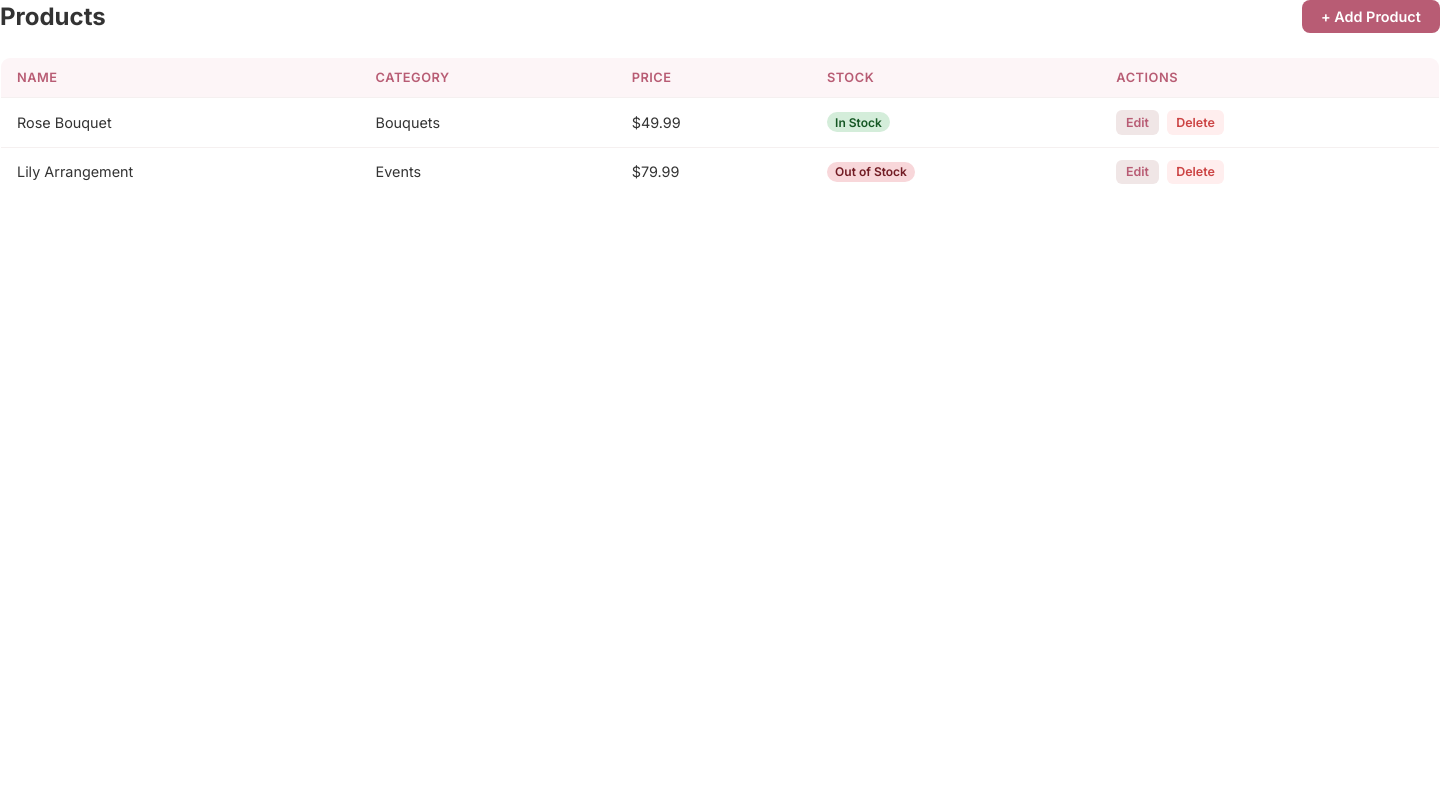
Test case: AdminProductsPage › opens add product modal
This screenshot has width=1440, height=810.
Click the button "+ Add Product".
click(1371, 16)  # box x1=1302 y1=0 x2=1439 y2=33
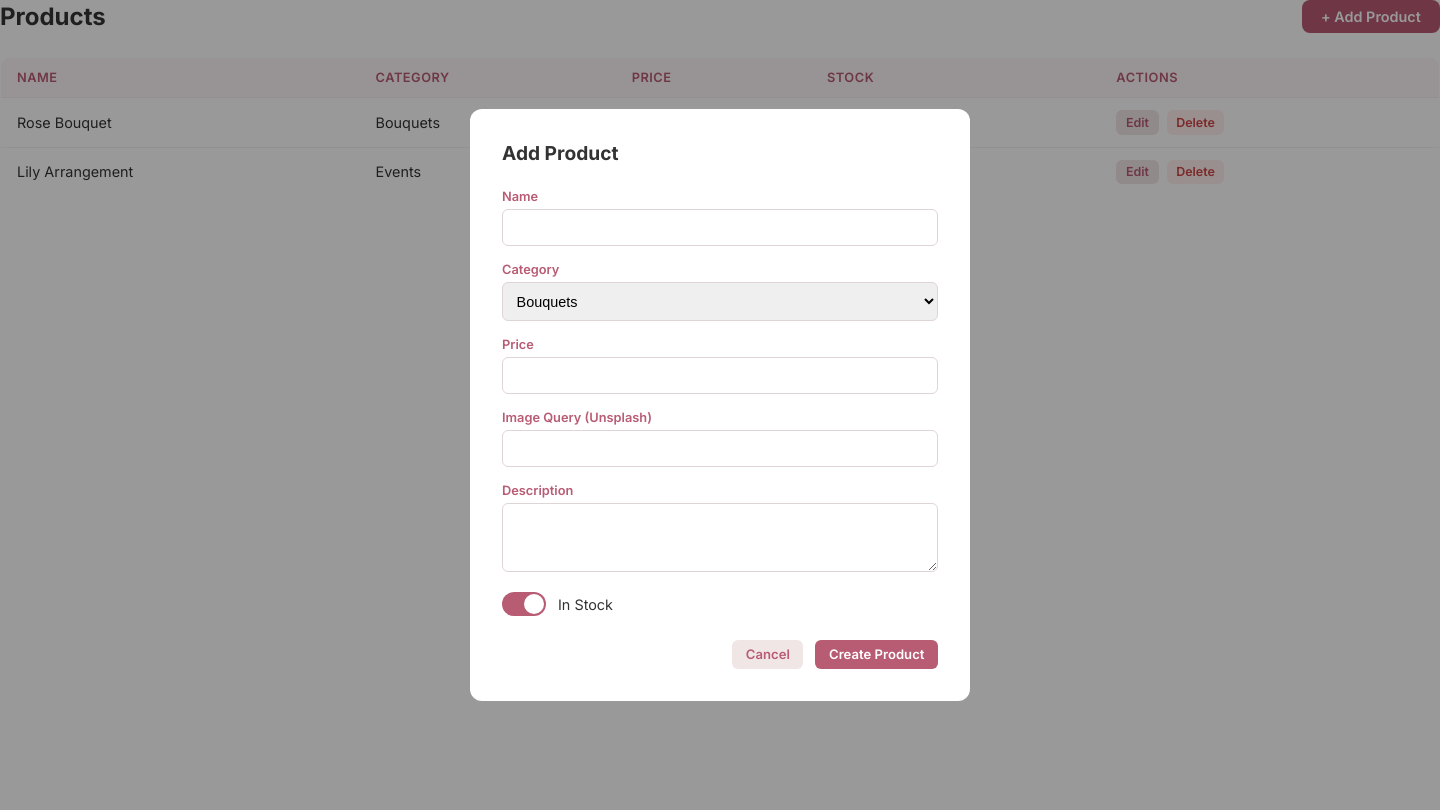
Result: the heading "Add Product" is shown at x1=502 y1=141 x2=618 y2=165
Result: the button "Create Product" is shown at x1=815 y1=640 x2=938 y2=669
